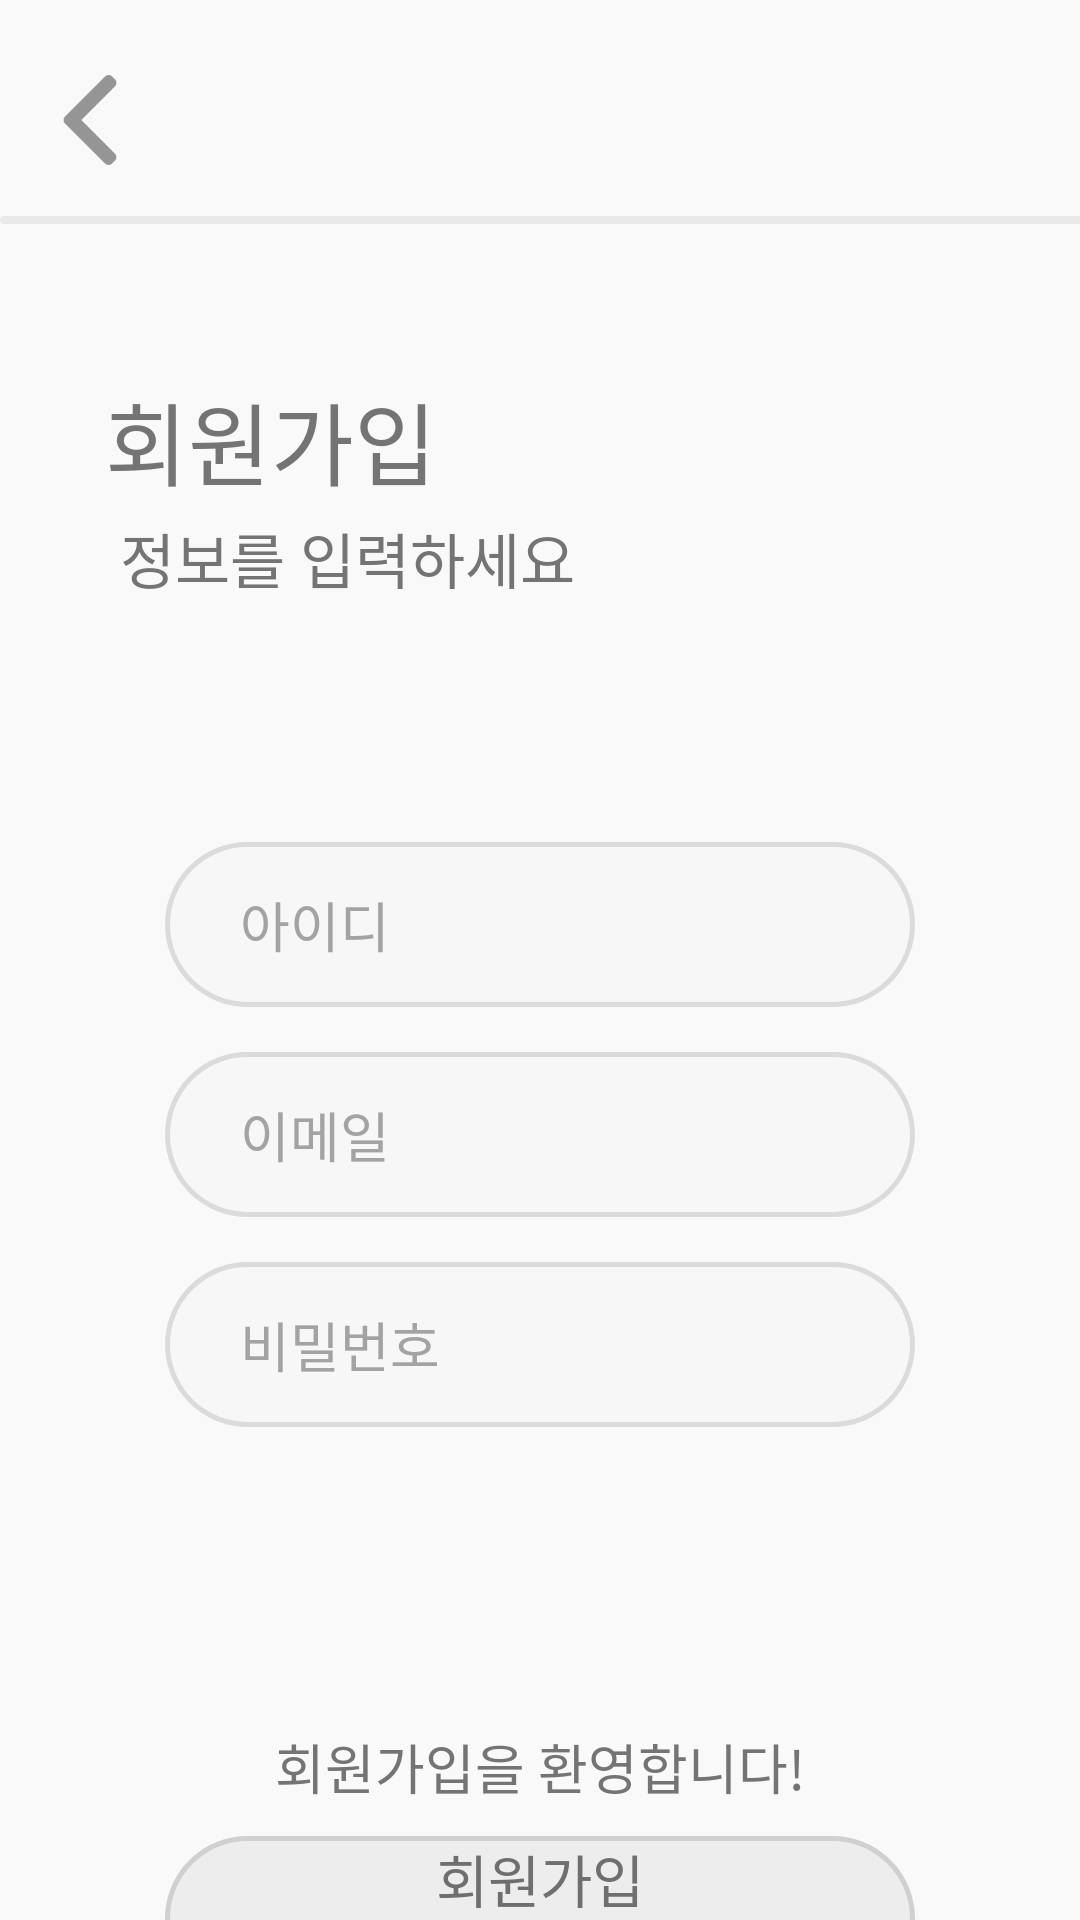

Screen size 1080px x 1920px. Icon name, then its box in pixels as (x1, y1, x2, y2):
back: (63, 75, 117, 165)
